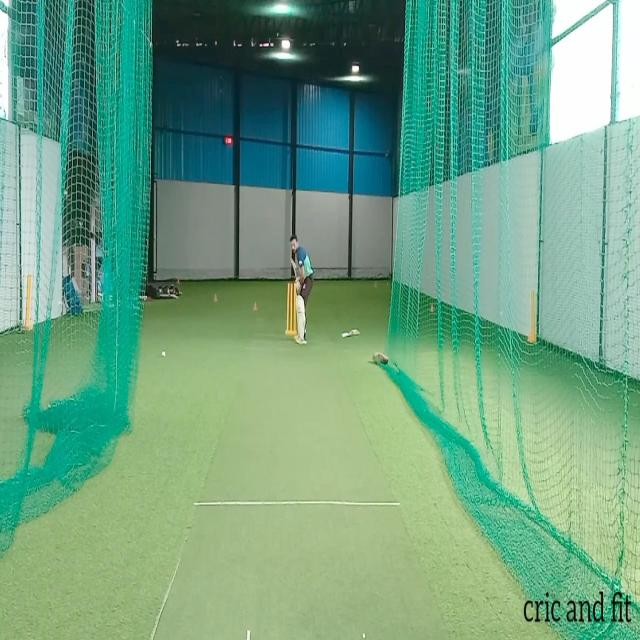batsman: (289, 231, 315, 346)
